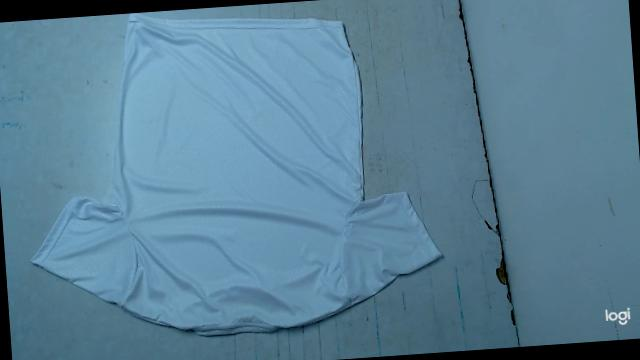new-garment: (31, 13, 441, 335)
